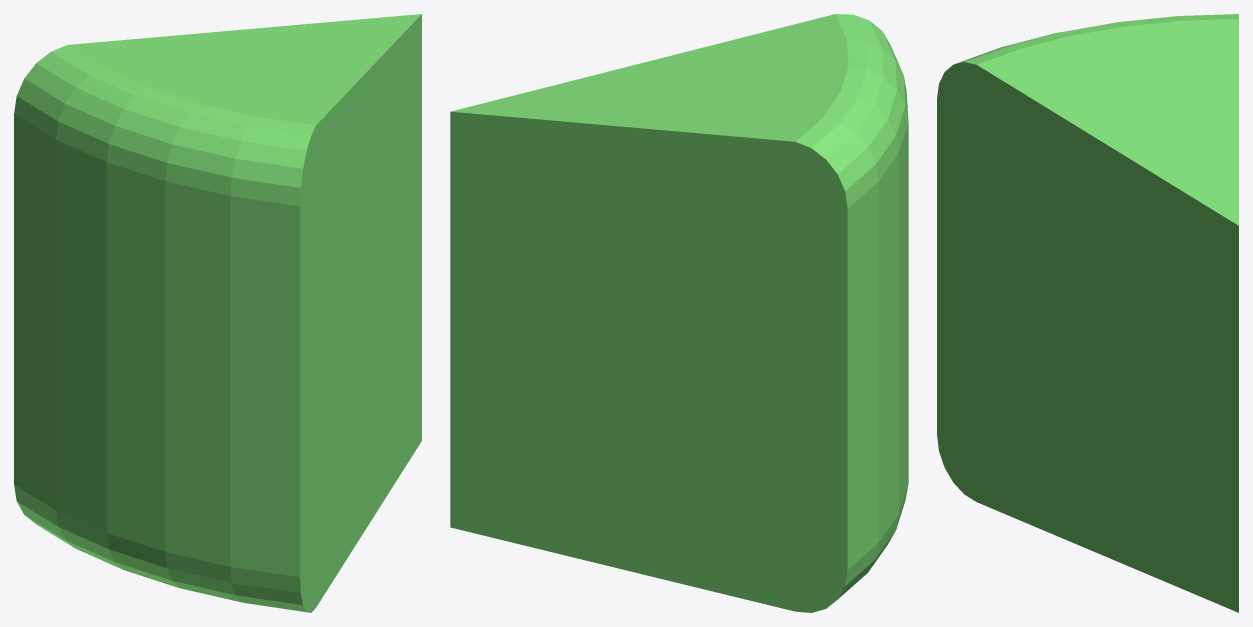
File: Border_Angle_Half.fbx
3 views of the same model, side by side, from view 1: azimuth 30°, elevation 25°; view 2: azimuth 150°, elevation 25°; view 3: azimuth 270°, elevation 25° (orthographic). The views are drawn at different scales.
Visible parts, largest first — view 1: Border_Angle_Half; view 2: Border_Angle_Half; view 3: Border_Angle_Half.
Part boxes in pixels (x1,y1,x2,y2): Border_Angle_Half: [14, 14, 421, 612]; Border_Angle_Half: [450, 14, 908, 612]; Border_Angle_Half: [937, 14, 1238, 612].
Size of the model in its own units: 200 by 226 by 141.
